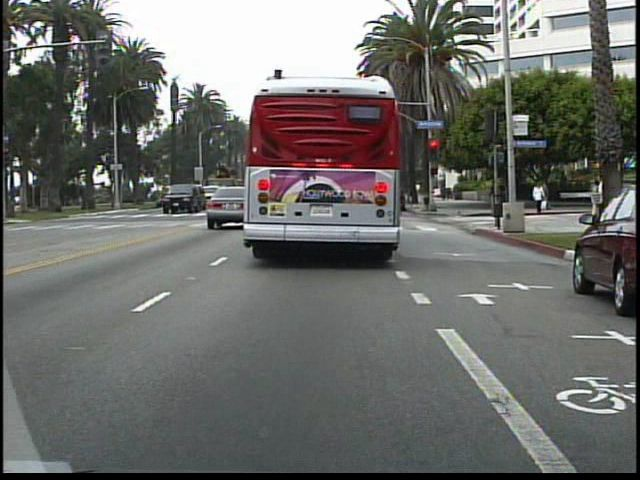person: (590, 173, 614, 228), (532, 179, 547, 216), (541, 178, 554, 212)
